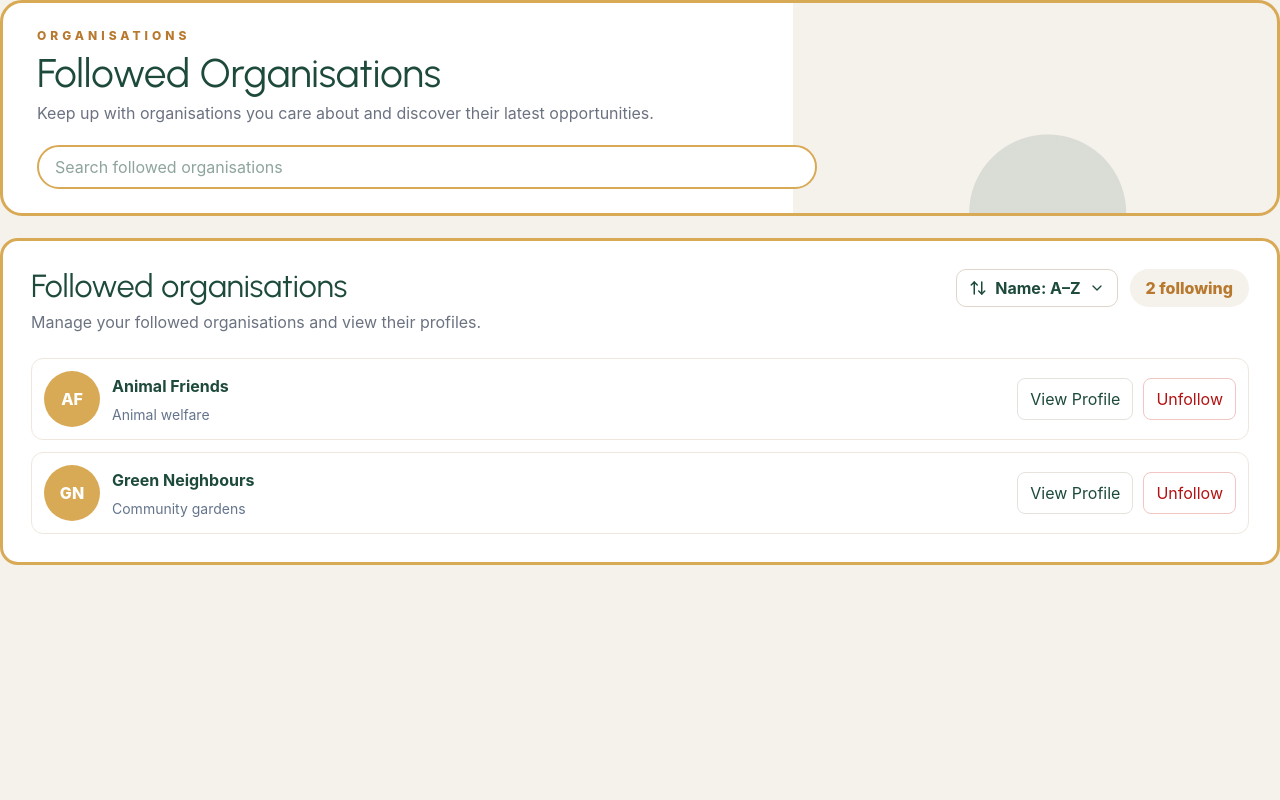
Test: Follow feature UI › searches followed Organisations by visible name
Type "animal" into the field with placeholder "Search followed organisations".
click(427, 167); type("animal")  # box [55,155,799,179]
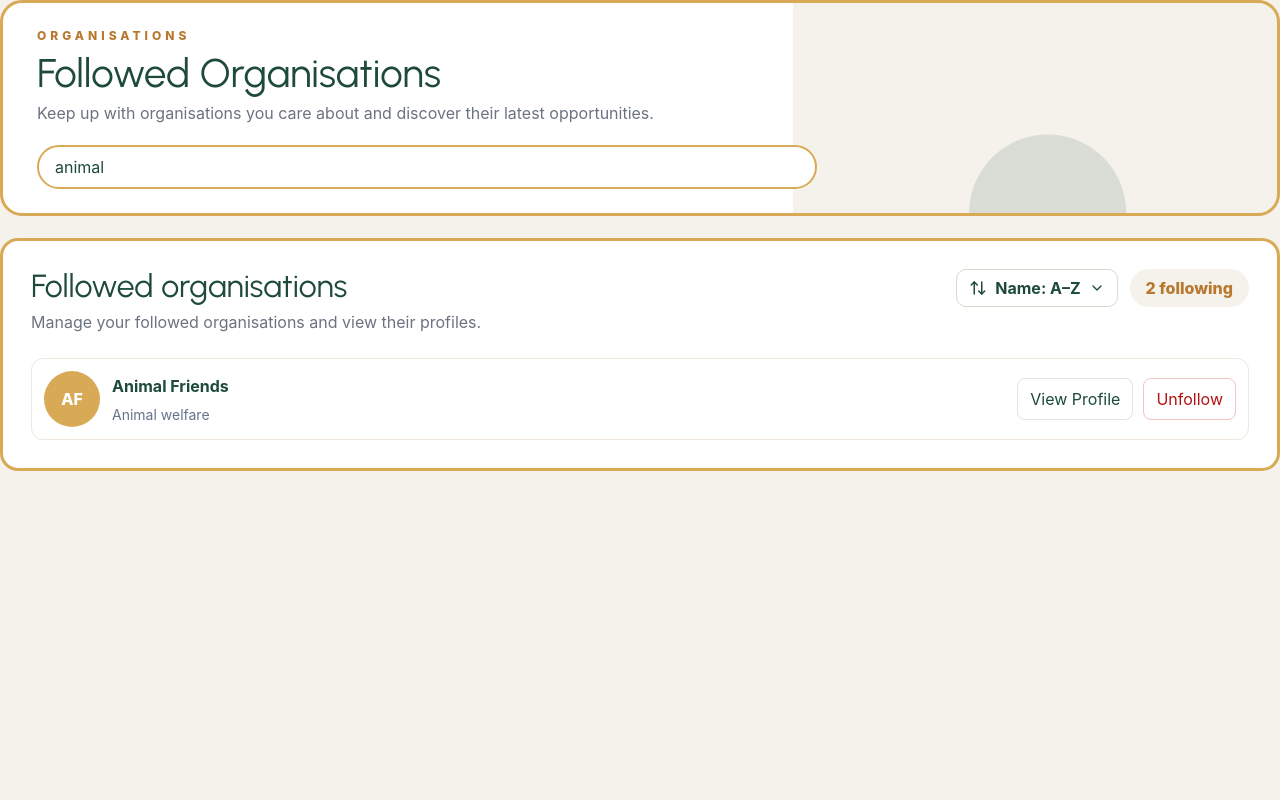
Check: the text "Animal Friends" is shown, box [112,374,229,398]
Check: the text "Green Neighbours" is gone
